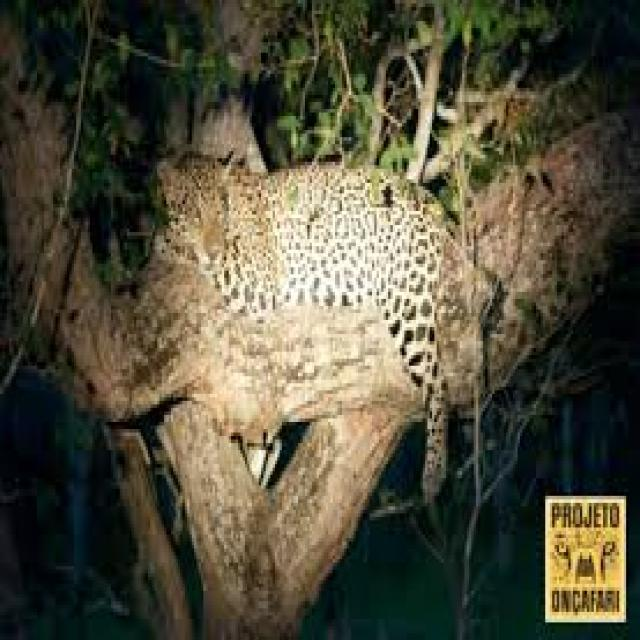Jaguar: (154, 133, 480, 440)
